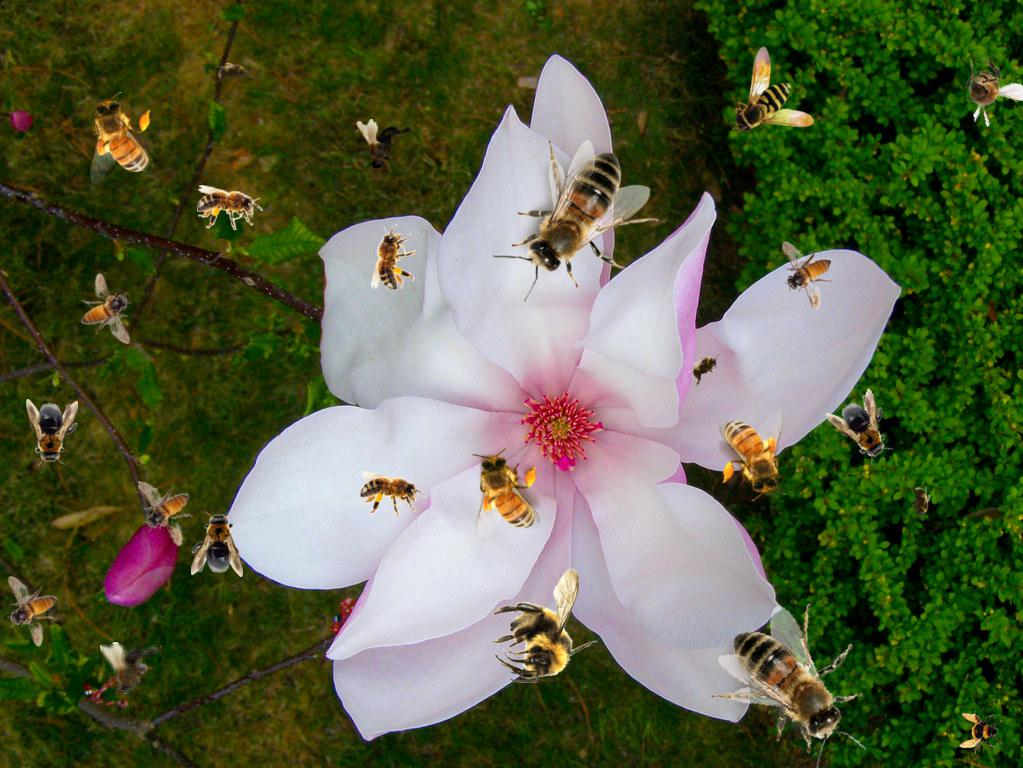Bee: (701, 588, 890, 768), (492, 140, 659, 302), (491, 568, 598, 683), (940, 44, 1023, 138), (732, 46, 814, 134), (824, 386, 906, 472), (86, 92, 154, 185), (719, 408, 787, 501), (472, 448, 540, 541), (136, 473, 198, 552), (780, 238, 836, 313), (351, 116, 418, 176), (7, 576, 57, 647), (81, 273, 131, 344), (191, 509, 243, 577), (26, 399, 78, 467), (100, 642, 162, 695), (197, 185, 263, 230), (371, 224, 416, 290), (360, 471, 426, 516), (959, 711, 1003, 755), (682, 347, 728, 389), (213, 62, 253, 84), (909, 482, 931, 522)
